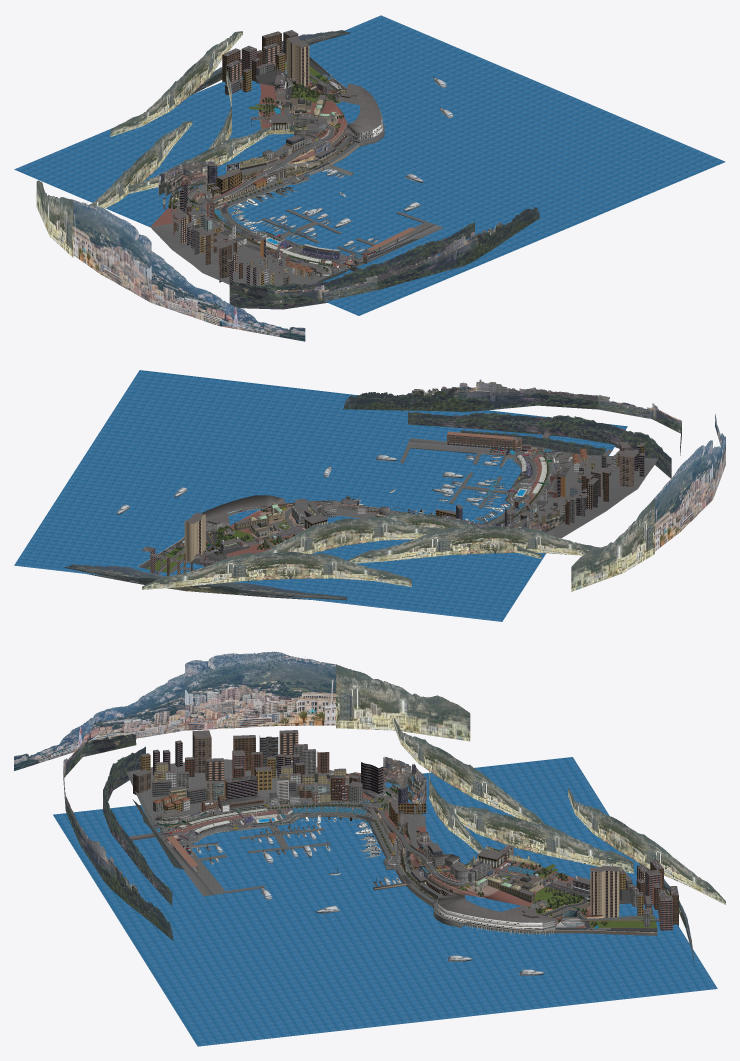
File: monaco.glb
The picture shows the model from 3 angles, top to bottom: view 1: azimuth 30°, elevation 25°; view 2: azimuth 150°, elevation 25°; view 3: azimuth 270°, elevation 25°; orthographic projection. The views are drawn at different scales.
Visible parts, largest first — view 1: water2_chunk0, bk21_chunk0, road3_chunk0, black01_chunk0, bkb2_chunk0, bkb4_chunk0, bka9_chunk0, cegly_chunk0, bka10_chunk0, boat01_chunk0, grdr1_chunk0, bka4_chunk0 (+12 smaller); view 2: water2_chunk0, bk21_chunk0, road3_chunk0, black01_chunk0, bkb2_chunk0, bka9_chunk0, bkae_chunk0, bka10_chunk0, bka3_chunk0, bka4_chunk0, boat01_chunk0, bka11_chunk0 (+13 smaller); view 3: water2_chunk0, bk21_chunk0, bkb2_chunk0, black01_chunk0, road3_chunk0, bkb4_chunk0, cegly_chunk0, bka9_chunk0, bldgtf_chunk0, boat01_chunk0, bldgst_chunk0, grdr1_chunk0 (+17 smaller).
Part boxes in pixels (bbox=[...]): water2_chunk0: bbox=[14, 15, 725, 315]; bk21_chunk0: bbox=[36, 31, 268, 257]; road3_chunk0: bbox=[150, 84, 443, 285]; black01_chunk0: bbox=[171, 30, 423, 278]; bkb2_chunk0: bbox=[73, 200, 151, 302]; bkb4_chunk0: bbox=[151, 251, 305, 341]; bka9_chunk0: bbox=[229, 221, 474, 309]; cegly_chunk0: bbox=[150, 82, 347, 268]; bka10_chunk0: bbox=[283, 236, 451, 309]; boat01_chunk0: bbox=[254, 77, 453, 256]; grdr1_chunk0: bbox=[192, 81, 436, 284]; bka4_chunk0: bbox=[426, 236, 462, 276]; water2_chunk0: bbox=[14, 370, 627, 621]; bk21_chunk0: bbox=[142, 497, 654, 591]; road3_chunk0: bbox=[205, 438, 657, 549]; black01_chunk0: bbox=[141, 432, 645, 574]; bkb2_chunk0: bbox=[655, 440, 712, 551]; bka9_chunk0: bbox=[408, 411, 671, 478]; bkae_chunk0: bbox=[64, 564, 346, 600]; bka10_chunk0: bbox=[444, 412, 648, 457]; bka3_chunk0: bbox=[432, 379, 481, 411]; bka4_chunk0: bbox=[481, 381, 537, 410]; boat01_chunk0: bbox=[116, 455, 513, 514]; bka11_chunk0: bbox=[460, 430, 606, 455]; water2_chunk0: bbox=[53, 757, 717, 1046]; bk21_chunk0: bbox=[336, 664, 725, 904]; bkb2_chunk0: bbox=[185, 651, 335, 730]; black01_chunk0: bbox=[129, 730, 678, 928]; road3_chunk0: bbox=[130, 759, 589, 923]; bkb4_chunk0: bbox=[14, 673, 184, 770]; cegly_chunk0: bbox=[167, 791, 602, 927]; bka9_chunk0: bbox=[103, 746, 172, 905]; bldgtf_chunk0: bbox=[153, 741, 383, 794]; boat01_chunk0: bbox=[193, 822, 544, 975]; bldgst_chunk0: bbox=[153, 746, 649, 927]; grdr1_chunk0: bbox=[130, 772, 602, 929].
Size of what is drawn, in the model's own units: 1780 by 256 by 1693.
827 materials, 827 textured.
